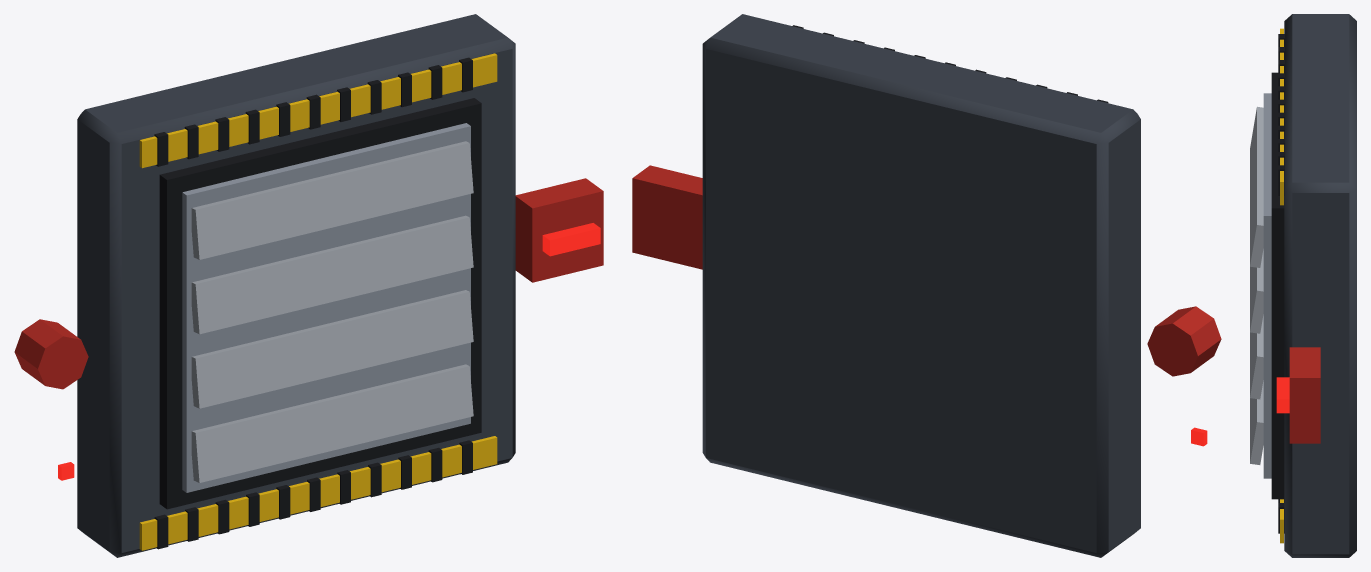
Rendered from duct_emergency_shutter_vent.glb.
3 renders of one model, left to right at view 1: azimuth 30°, elevation 25°; view 2: azimuth 150°, elevation 25°; view 3: azimuth 270°, elevation 25°, orthographic. The views are drawn at different scales.
Visible parts, largest first — view 1: duct_emergency_shutter_vent; view 2: duct_emergency_shutter_vent; view 3: duct_emergency_shutter_vent.
Part boxes in pixels (bbox=[...]): duct_emergency_shutter_vent: bbox=[14, 14, 603, 557]; duct_emergency_shutter_vent: bbox=[632, 14, 1221, 557]; duct_emergency_shutter_vent: bbox=[1250, 14, 1356, 557].
Size of the model in its own units: 1.12 by 0.8 by 0.2066.
